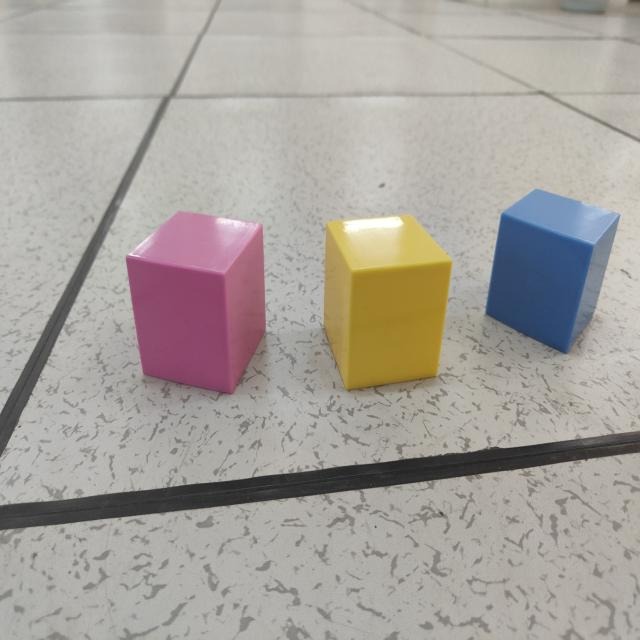blue: (484, 191, 620, 355)
pink: (124, 212, 267, 395)
yellow: (322, 216, 453, 392)
